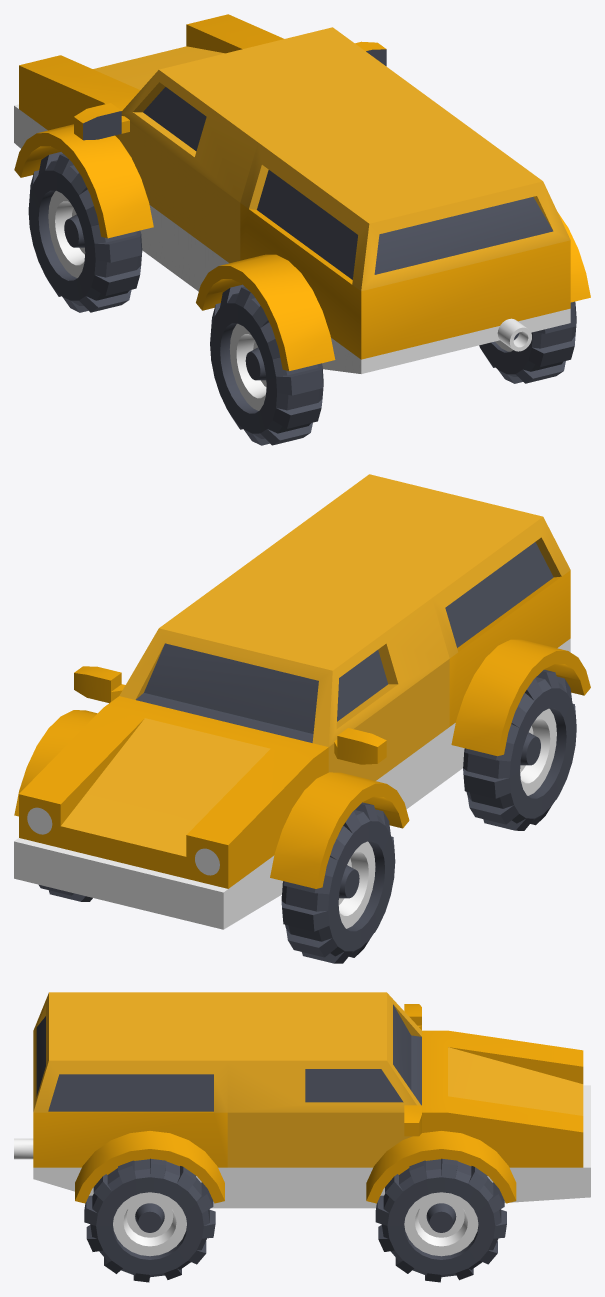
The model's file is Traffic Offroad Yellow.fbx.
3 renders of one model, top to bottom at view 1: azimuth 30°, elevation 25°; view 2: azimuth 150°, elevation 25°; view 3: azimuth 270°, elevation 25°, orthographic. The views are drawn at different scales.
Parts seen in each view (by area): view 1: trunk_station_87, windshield_square_83, wheel_dirt_107, wheel_dirt_108, hood_square_116, detail_fender_110, detail_fender_109, wheel_dirt_114, detail_mirror_101, detail_fender_113, detail_exhaust_103; view 2: hood_square_116, windshield_square_83, trunk_station_87, wheel_dirt_107, wheel_dirt_108, detail_fender_109, detail_fender_110, detail_fender_111, detail_mirror_101, detail_mirror_102; view 3: windshield_square_83, trunk_station_87, hood_square_116, wheel_dirt_114, wheel_dirt_112, detail_fender_111, detail_fender_113, detail_mirror_102, detail_exhaust_103.
Part boxes in pixels (x1,y1,x2,y2): trunk_station_87: [240, 100, 570, 373]; windshield_square_83: [119, 27, 431, 291]; wheel_dirt_107: [28, 152, 142, 312]; wheel_dirt_108: [210, 284, 323, 445]; hood_square_116: [14, 14, 283, 148]; detail_fender_110: [196, 254, 335, 371]; detail_fender_109: [14, 124, 153, 238]; wheel_dirt_114: [479, 301, 576, 383]; detail_mirror_101: [74, 103, 129, 140]; detail_fender_113: [557, 212, 590, 302]; detail_exhaust_103: [497, 318, 531, 351]; hood_square_116: [14, 696, 328, 929]; windshield_square_83: [119, 555, 449, 809]; trunk_station_87: [258, 474, 570, 777]; wheel_dirt_107: [281, 802, 395, 963]; wheel_dirt_108: [463, 669, 576, 830]; detail_fender_109: [270, 772, 409, 888]; detail_fender_110: [451, 639, 590, 756]; detail_fender_111: [14, 710, 97, 816]; detail_mirror_101: [334, 728, 386, 764]; detail_mirror_102: [74, 666, 125, 703]; windshield_square_83: [227, 992, 421, 1208]; trunk_station_87: [33, 992, 227, 1208]; hood_square_116: [422, 1030, 590, 1202]; wheel_dirt_114: [84, 1158, 215, 1282]; wheel_dirt_112: [375, 1158, 506, 1282]; detail_fender_111: [366, 1131, 516, 1203]; detail_fender_113: [75, 1131, 224, 1203]; detail_mirror_102: [404, 1105, 421, 1136]; detail_exhaust_103: [14, 1138, 33, 1159].
Bounding box in the file's own units: 14.5 × 11.38 × 29.7.
